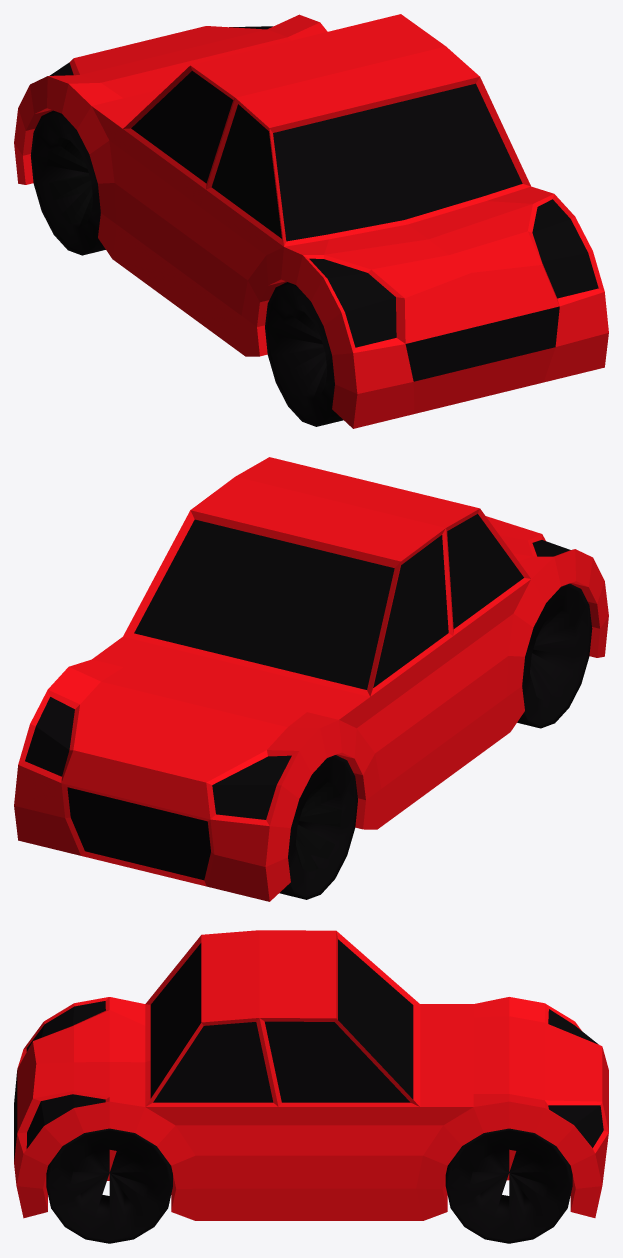
The model's file is Blue_Car.fbx.
3 renders of one model, top to bottom at view 1: azimuth 30°, elevation 25°; view 2: azimuth 150°, elevation 25°; view 3: azimuth 270°, elevation 25°, orthographic. The views are drawn at different scales.
Visible parts, largest first — view 1: CarBody, BL_Wheel, FL_Wheel; view 2: CarBody, FL_Wheel, BL_Wheel; view 3: CarBody, FR_Wheel, BR_Wheel.
Boxes of the visible parts, x1,y1,x2,y2 form: CarBody: (14, 14, 608, 428); BL_Wheel: (265, 282, 343, 426); FL_Wheel: (30, 110, 105, 255); CarBody: (14, 457, 608, 901); FL_Wheel: (279, 755, 357, 899); BL_Wheel: (517, 583, 592, 728); CarBody: (14, 930, 608, 1220); FR_Wheel: (445, 1128, 572, 1243); BR_Wheel: (46, 1128, 172, 1243).
Size of the model in its own units: 1.96 by 1.8 by 4.47.
